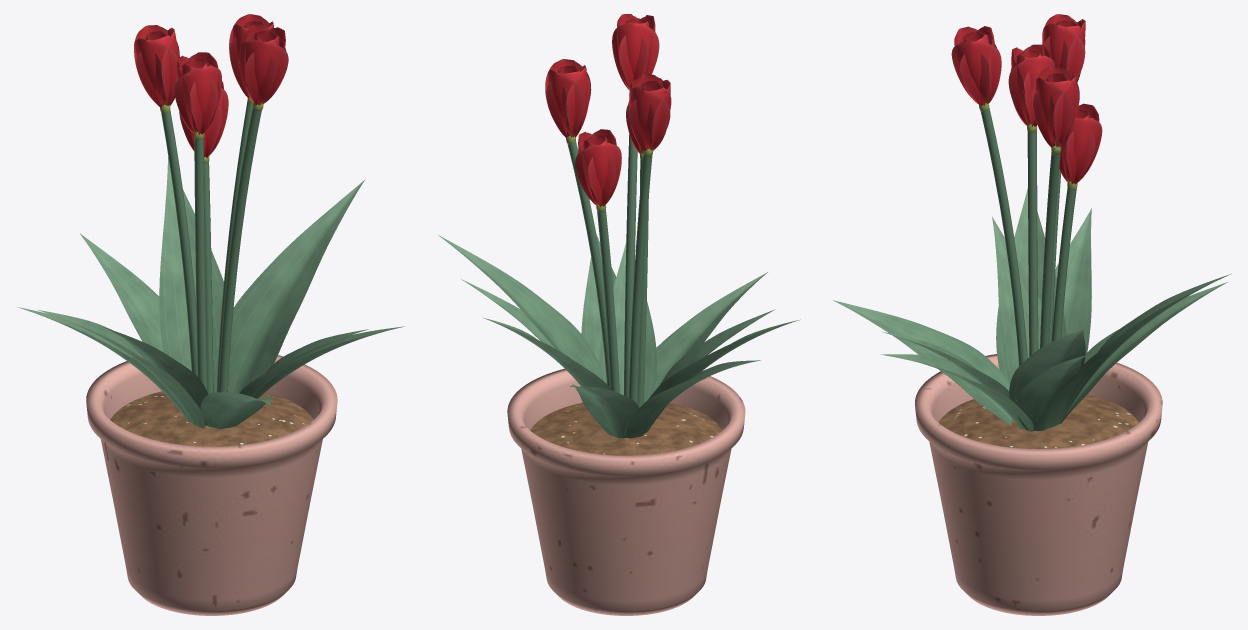
The model's file is tulip.glb.
3 renders of one model, left to right at view 1: azimuth 30°, elevation 25°; view 2: azimuth 150°, elevation 25°; view 3: azimuth 270°, elevation 25°, orthographic. The views are drawn at different scales.
Parts seen in each view (by area): view 1: piece-0, piece-37, piece-7, piece-1, piece-28, piece-22, piece-16, piece-30, piece-9, piece-8, piece-29, piece-35 (+8 smaller); view 2: piece-0, piece-37, piece-1, piece-7, piece-29, piece-21, piece-2, piece-22, piece-16, piece-23, piece-9, piece-14 (+9 smaller); view 3: piece-0, piece-37, piece-1, piece-29, piece-14, piece-35, piece-28, piece-36, piece-7, piece-2, piece-16, piece-22 (+10 smaller).
Part boxes in pixels (box(x1,y1,x2,y2)): piece-0: box(86, 355, 337, 615); piece-37: box(161, 100, 261, 393); piece-7: box(228, 180, 364, 393); piece-1: box(110, 391, 313, 446); piece-28: box(159, 157, 223, 373); piece-22: box(80, 233, 163, 352); piece-16: box(238, 24, 288, 104); piece-30: box(174, 52, 221, 133); piece-9: box(134, 25, 179, 105); piece-8: box(37, 309, 205, 428); piece-29: box(200, 392, 271, 429); piece-35: box(102, 327, 207, 425); piece-0: box(507, 368, 745, 615); piece-37: box(567, 134, 652, 407); piece-1: box(530, 402, 722, 455); piece-7: box(438, 235, 601, 379); piece-29: box(654, 272, 767, 391); piece-21: box(599, 242, 657, 403); piece-2: box(545, 59, 591, 137); piece-22: box(570, 384, 641, 438); piece-16: box(612, 14, 659, 90); piece-23: box(575, 129, 621, 205); piece-9: box(629, 74, 670, 150); piece-14: box(627, 360, 760, 438); piece-0: box(915, 354, 1162, 615); piece-37: box(980, 108, 1076, 365); piece-1: box(938, 394, 1138, 448); piece-29: box(833, 300, 1012, 425); piece-14: box(1055, 208, 1091, 353); piece-35: box(992, 217, 1041, 384); piece-28: box(1050, 273, 1231, 427); piece-36: box(1017, 355, 1087, 430); piece-7: box(1009, 330, 1085, 428); piece-2: box(1032, 66, 1079, 147); piece-16: box(951, 26, 1001, 104); piece-22: box(1061, 282, 1227, 423).
Size of the model in its own units: 0.2699 by 0.4117 by 0.2661.
Materials: 9 (5 with a texture image).
